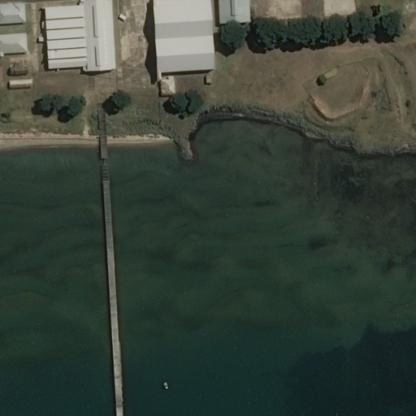ship: (155, 378, 175, 394)
